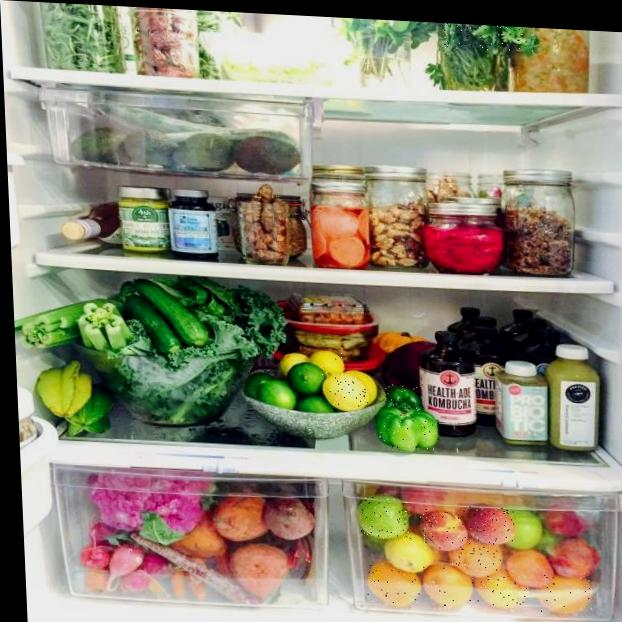apple: (358, 496, 412, 540)
green bell pepper: (378, 407, 440, 450), (384, 384, 420, 412)
lemon: (322, 373, 369, 411), (309, 349, 347, 375)
orange: (366, 562, 422, 607), (423, 565, 477, 608), (538, 575, 592, 614), (451, 543, 505, 578), (475, 572, 529, 607), (507, 549, 553, 585)
parsley: (442, 23, 536, 52)
peach: (467, 504, 515, 547), (420, 509, 468, 551)
